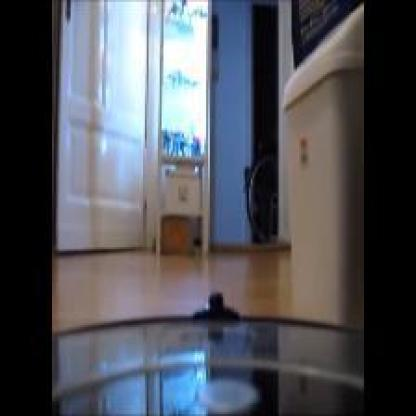other: (178, 29, 206, 150)
